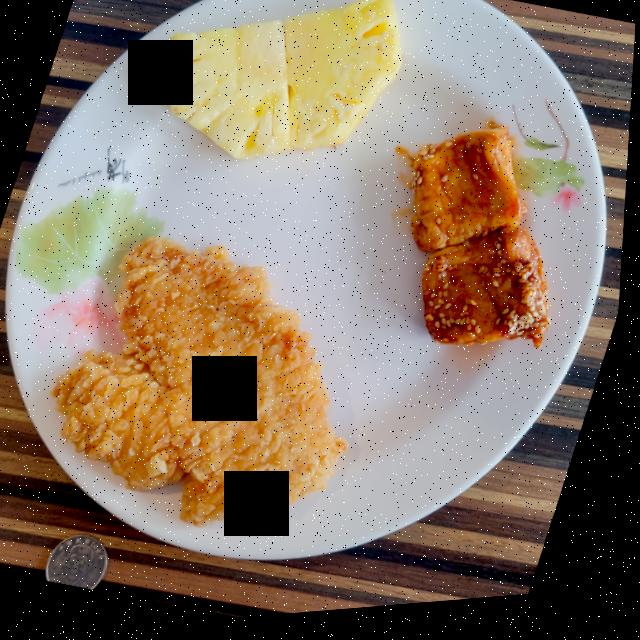coin: (53, 535, 115, 591)
creamy tofu: (413, 133, 554, 356)
fried chicken cutlet: (56, 238, 352, 529)
pineapple: (164, 0, 403, 163)
